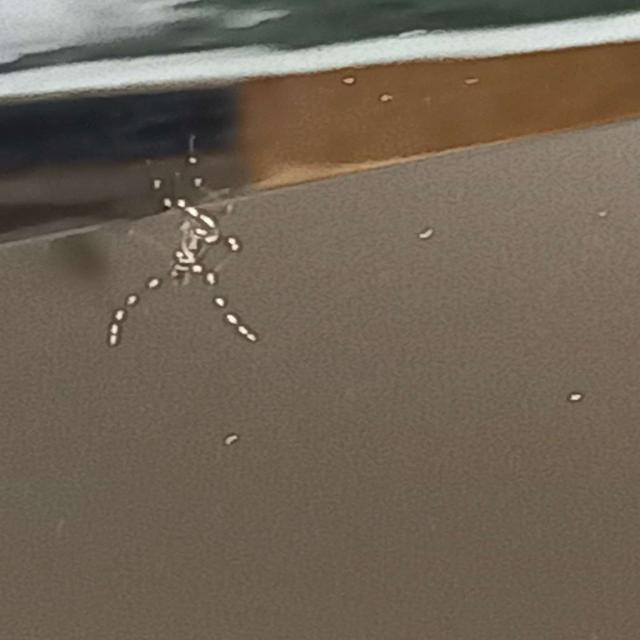albopictus: (97, 133, 281, 349)
